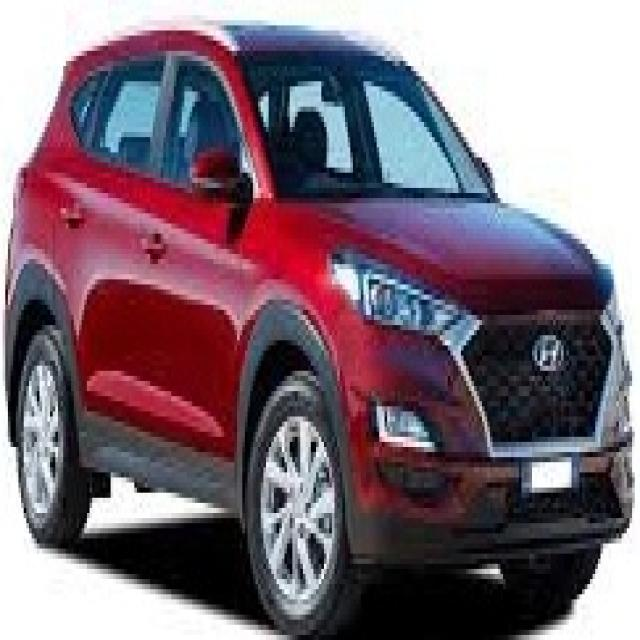maroon: (9, 23, 636, 581)
